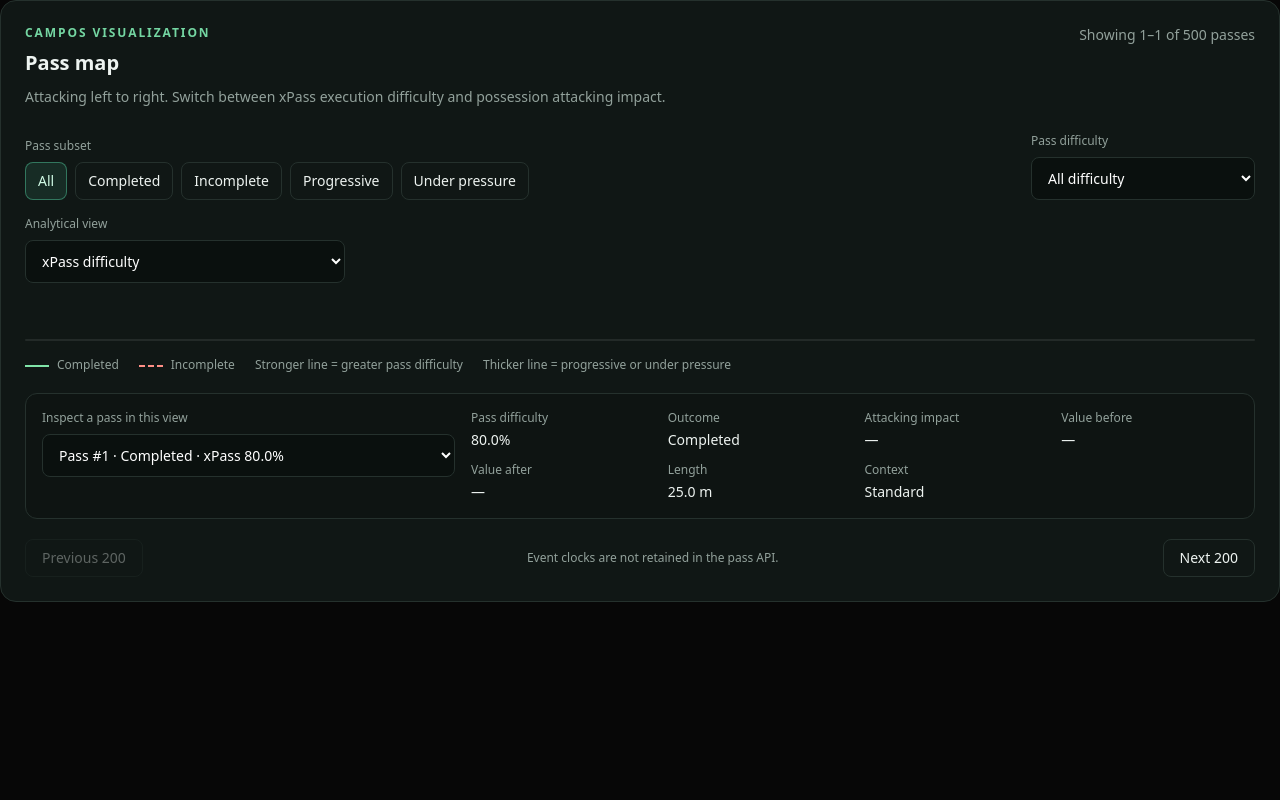
Test: FootyScoutPassMap interactions › preserves active filters while paginating
Step 1. Click the button "Completed" → (124,181), box [75, 162, 173, 200]
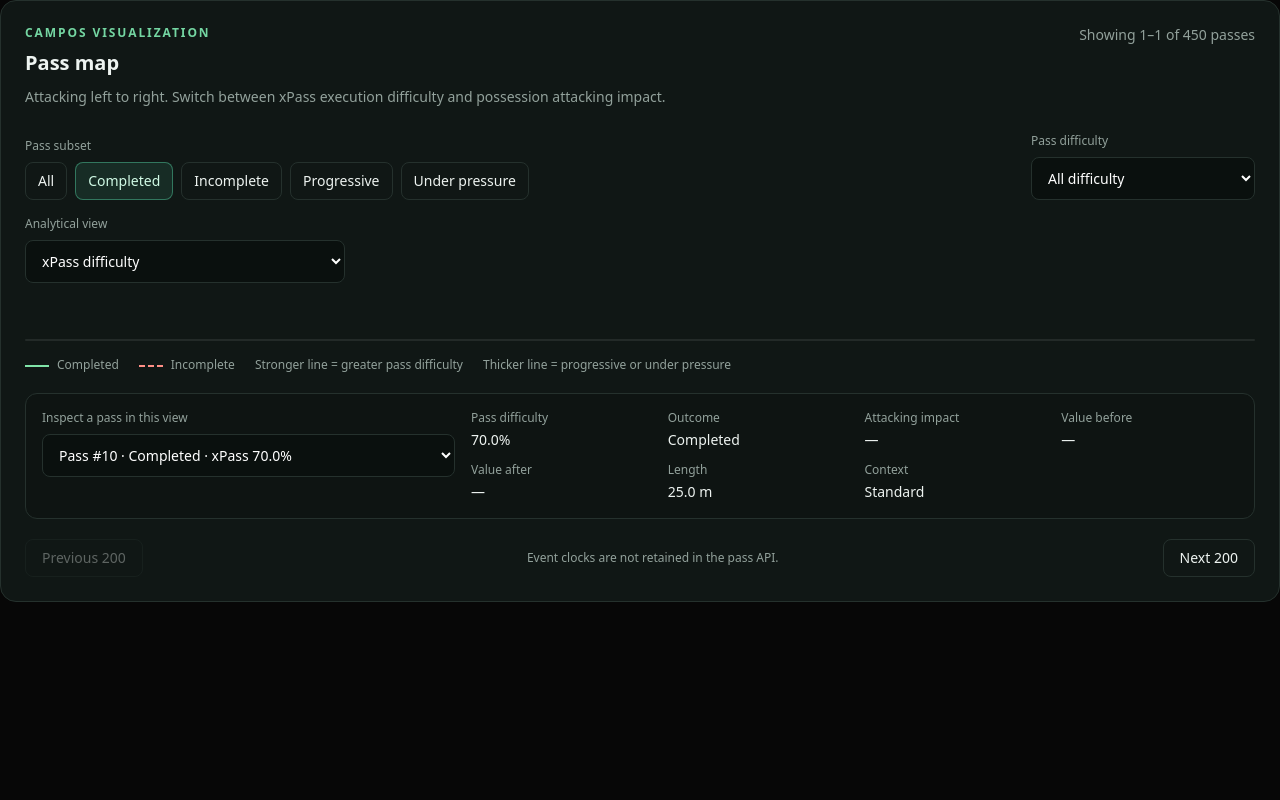
Step 2. Click the button "Next 200" → (1209,558), box [1163, 539, 1255, 577]
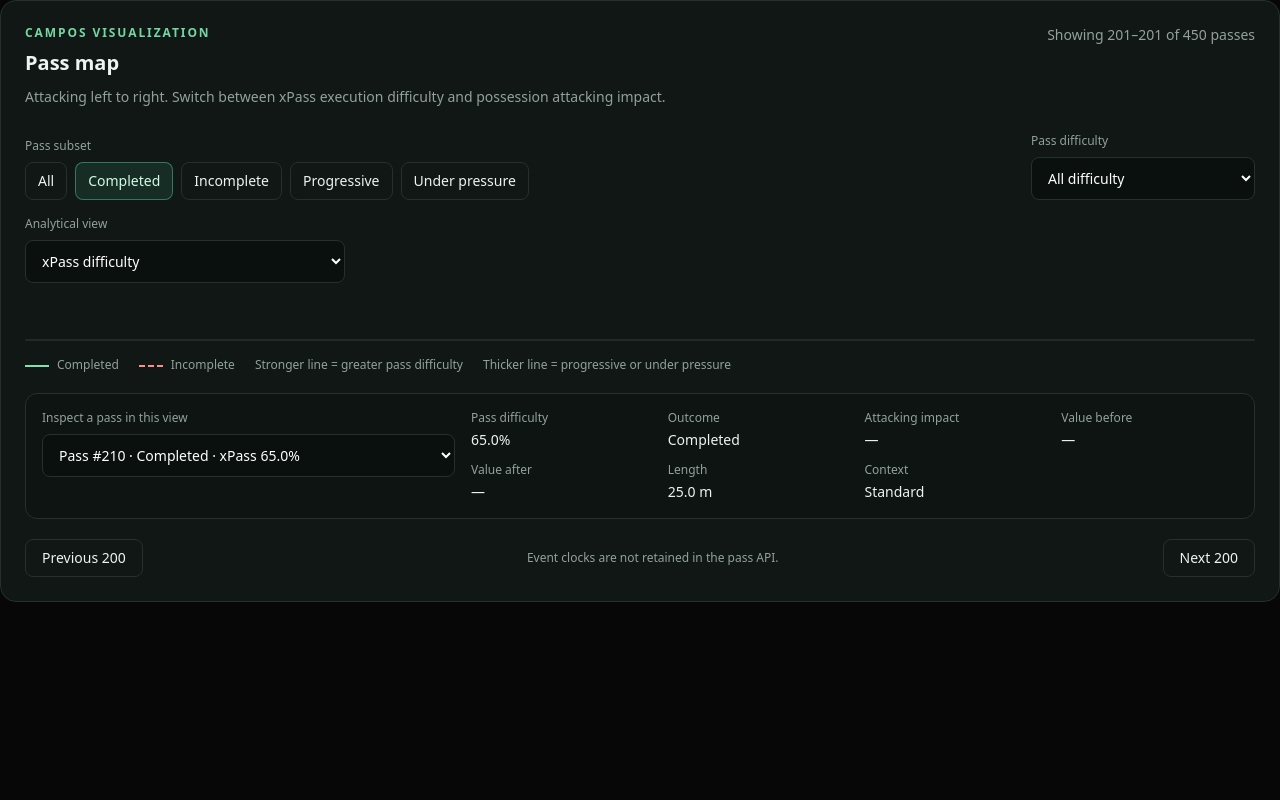
Check: the text "Showing 201–201 of 450 passes" is shown, box [1047, 25, 1255, 45]
Check: the button "Previous 200" is enabled, box [25, 539, 143, 577]
